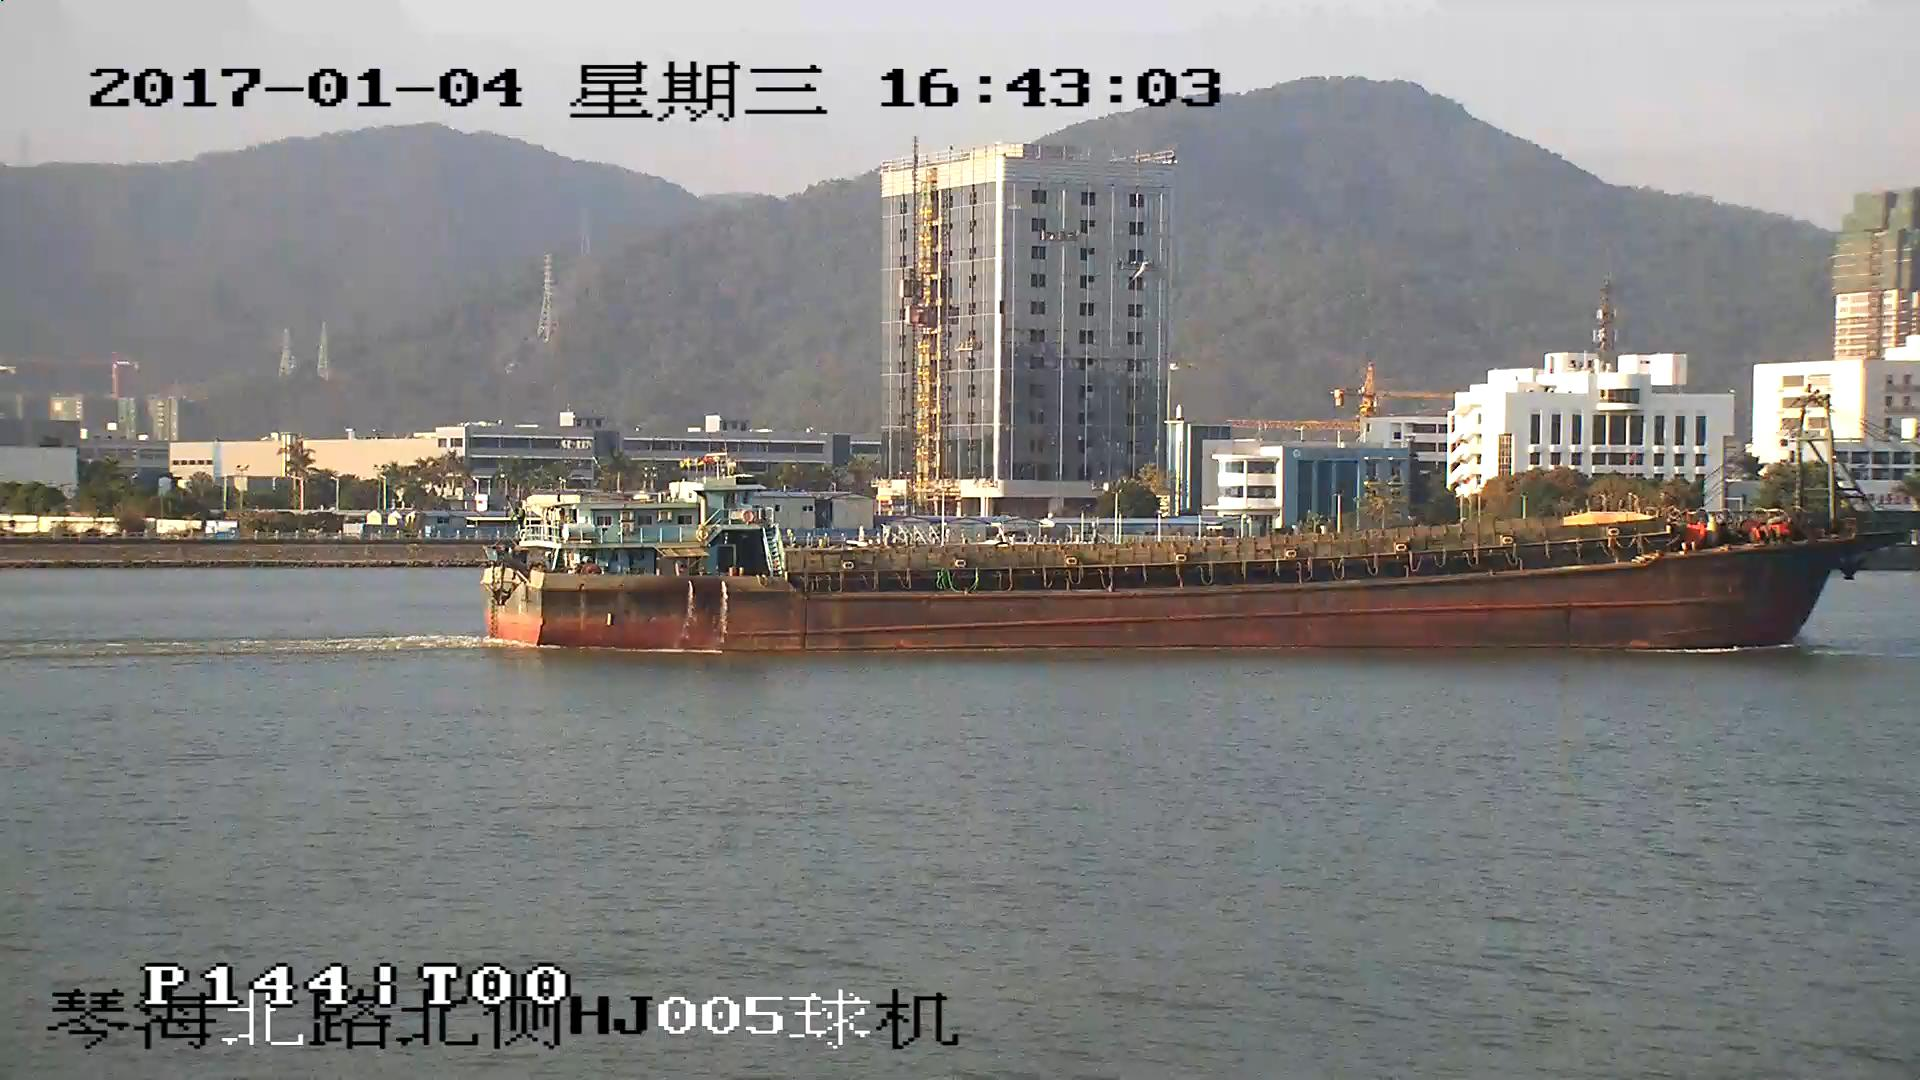bulk cargo carrier: (481, 393, 1920, 645)
